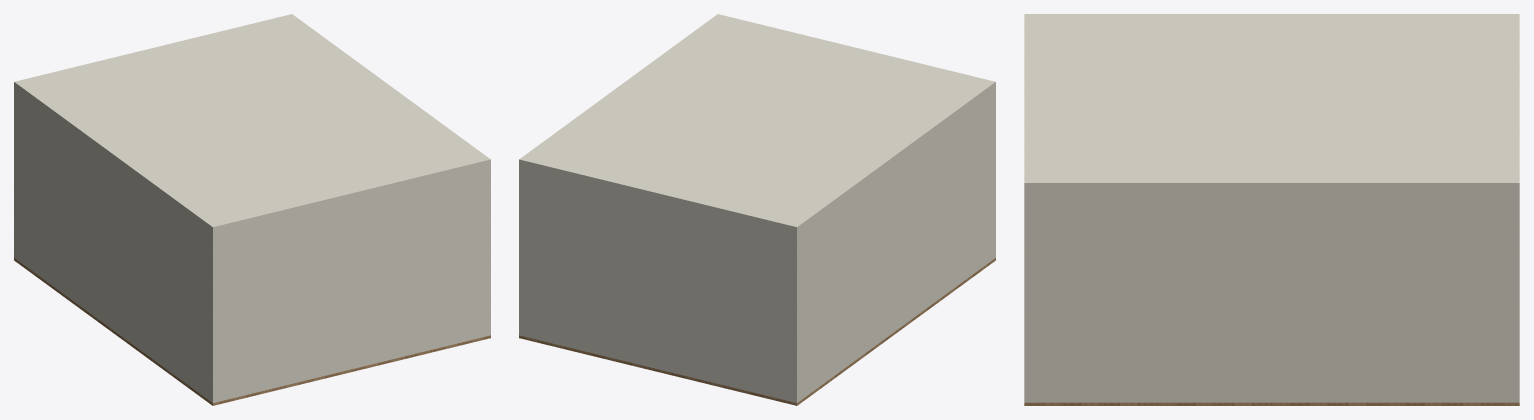
File: standard_room.glb
The picture shows the model from 3 angles, left to right: view 1: azimuth 30°, elevation 25°; view 2: azimuth 150°, elevation 25°; view 3: azimuth 270°, elevation 25°; orthographic projection. The views are drawn at different scales.
Parts seen in each view (by area): view 1: ceiling, wall-z-1, wall-x--1, floor, wall-z--1; view 2: ceiling, wall-z--1, wall-x--1, floor, wall-z-1; view 3: wall-x-1, ceiling, wall-z--1, wall-z-1, floor.
Boxes of the visible parts, x1,y1,x2,y2 form: ceiling: (14,14,490,229); wall-z-1: (209,162,490,402); wall-x--1: (18,87,208,399); floor: (14,258,490,405); wall-z--1: (14,85,17,260); ceiling: (519,14,995,229); wall-z--1: (519,162,800,402); wall-x--1: (801,87,991,399); floor: (519,258,995,405); wall-z-1: (992,85,995,260); wall-x-1: (1033,186,1510,402); ceiling: (1024,14,1519,186); wall-z--1: (1510,186,1519,402); wall-z-1: (1024,186,1033,402); floor: (1024,402,1519,405).
Size of the model in its own units: 4.2 by 2.58 by 5.2.
2 materials, 2 textured.
